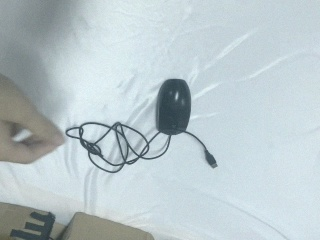box: (51, 210, 160, 240), (1, 201, 56, 240)
mouse: (154, 78, 192, 136)
